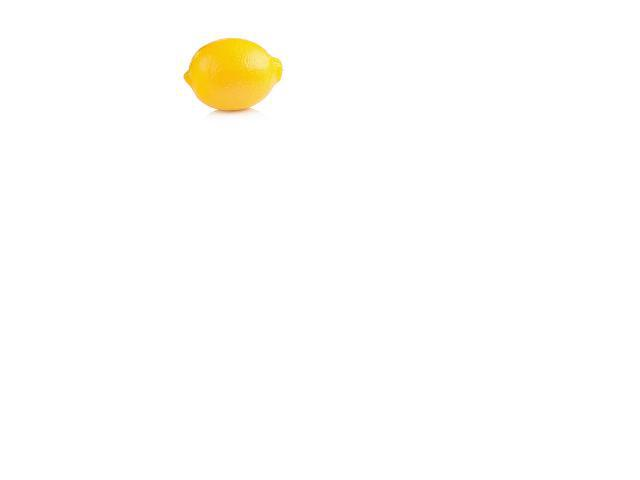lemon: (178, 34, 291, 108)
